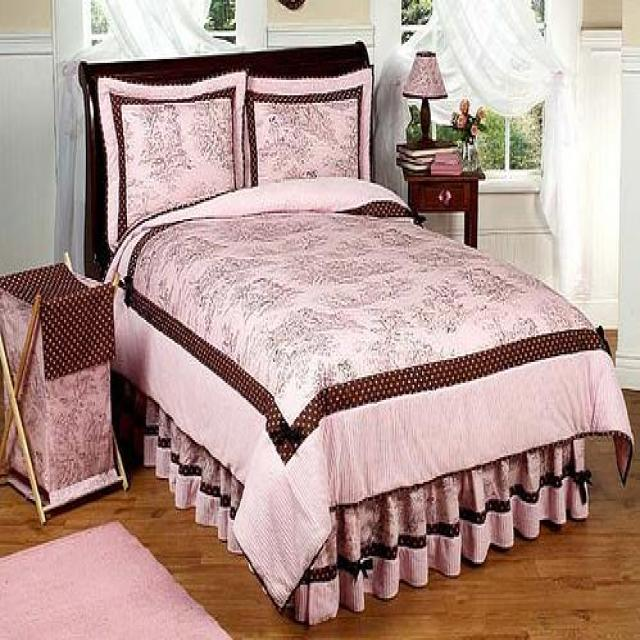bed: (76, 38, 634, 625)
table: (399, 160, 485, 248)
